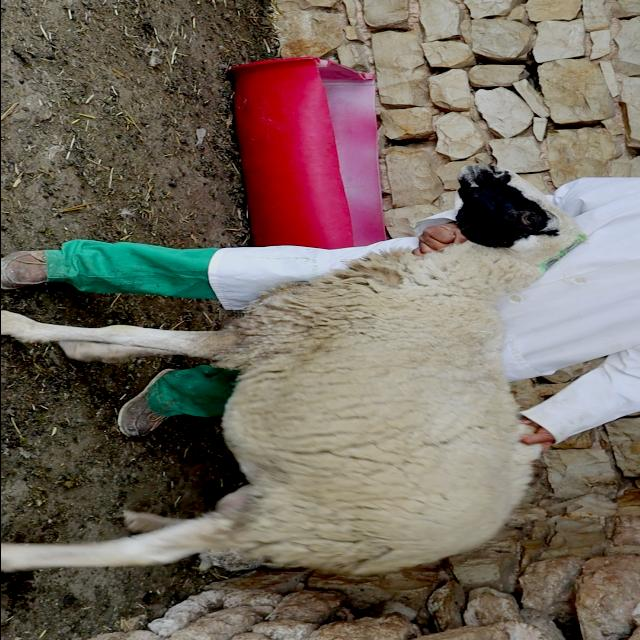Score_4: (1, 165, 583, 576)
